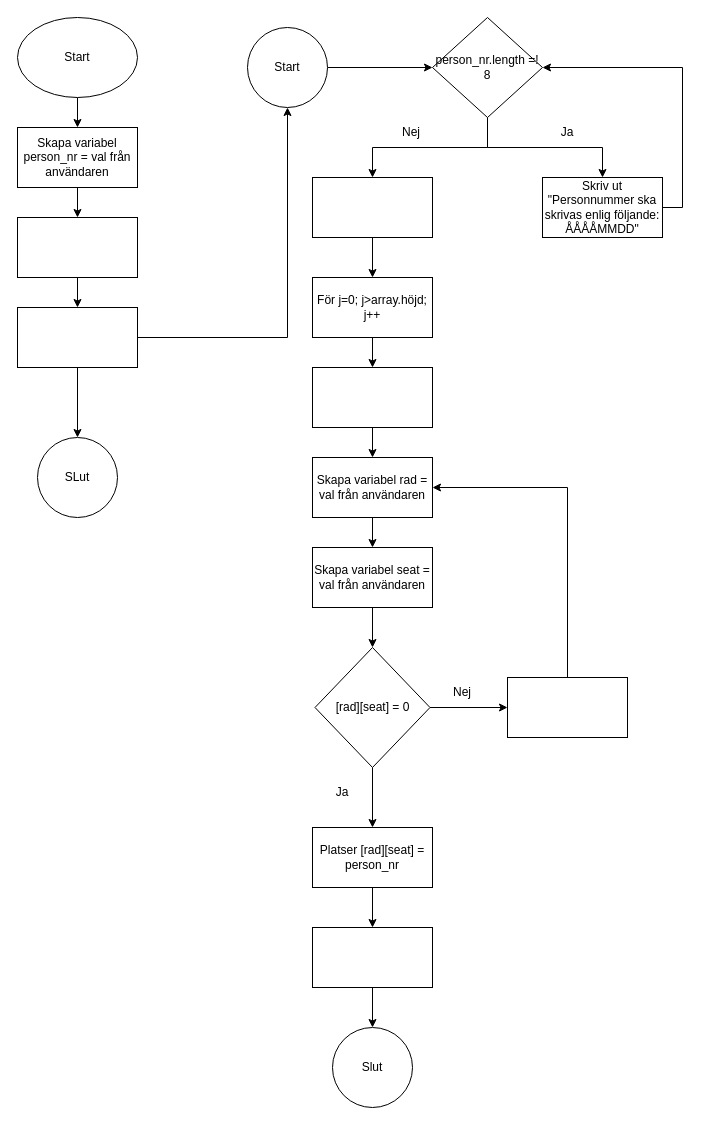
Image size: 708x1125. Some labels were removed from this diagram. The shapes that lost their labels are listed below. From the top down, each one's centre as x and y in pixels, then its label:
(x=372, y=207): For i=0; i >array.length; i++
(x=77, y=247): Skapa fält platser [5][4]
(x=77, y=337): Metod boka_plats(person_nr)
(x=372, y=397): Skriv ut platser [j][i]
(x=567, y=707): Skriv ut "Platsen är redan bokad"
(x=372, y=957): RETURNERA platser[rad][seat]
